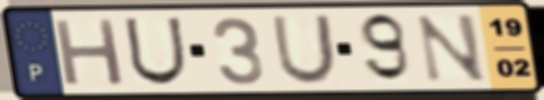3: (211, 14, 266, 86)
9: (355, 12, 414, 86)
H: (51, 16, 128, 89)
N: (413, 11, 490, 85)
U: (269, 13, 340, 87), (121, 15, 190, 87)
